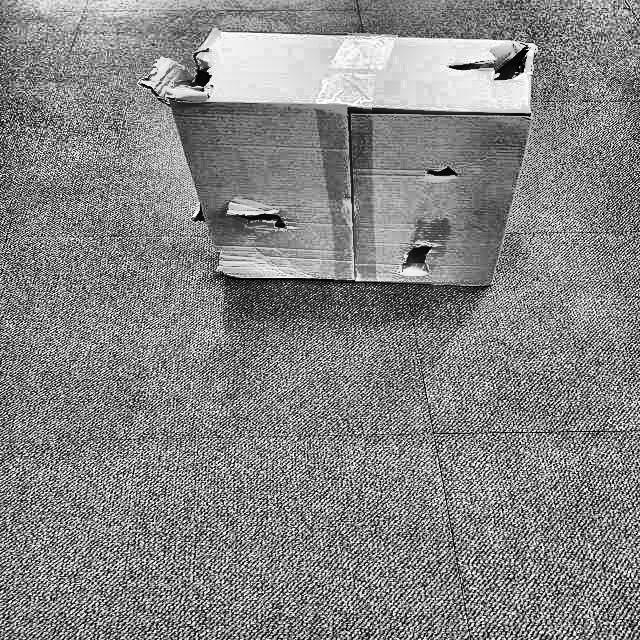box: (132, 8, 562, 312)
hole: (444, 42, 534, 86), (148, 51, 225, 99), (229, 196, 295, 231), (394, 244, 436, 280), (417, 162, 461, 184)
